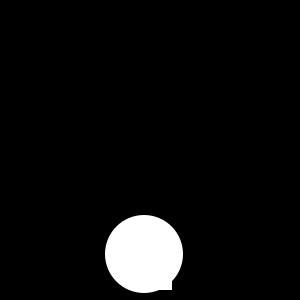circle: (149, 267, 172, 290)
rectangle: (105, 215, 183, 293)
